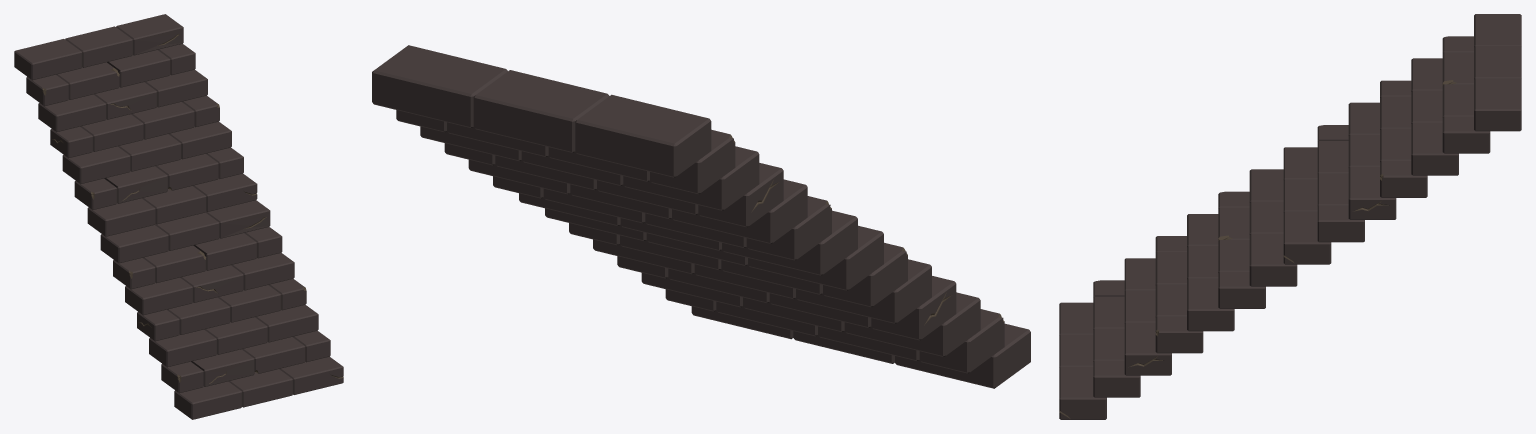
File: Stair_05.fbx
The picture shows the model from 3 angles, left to right: view 1: azimuth 30°, elevation 25°; view 2: azimuth 150°, elevation 25°; view 3: azimuth 270°, elevation 25°; orthographic projection. The views are drawn at different scales.
Visible parts, largest first — view 1: Stair; view 2: Stair; view 3: Stair.
Part boxes in pixels (x1,y1,x2,y2): Stair: [14, 14, 343, 419]; Stair: [372, 45, 1030, 388]; Stair: [1059, 14, 1521, 419].
Size of the model in its own units: 178 by 267 by 359.
